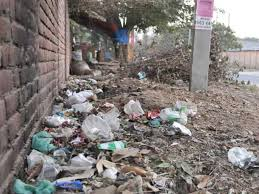garbage: (40, 120, 189, 194), (66, 76, 147, 194), (96, 102, 202, 161)
